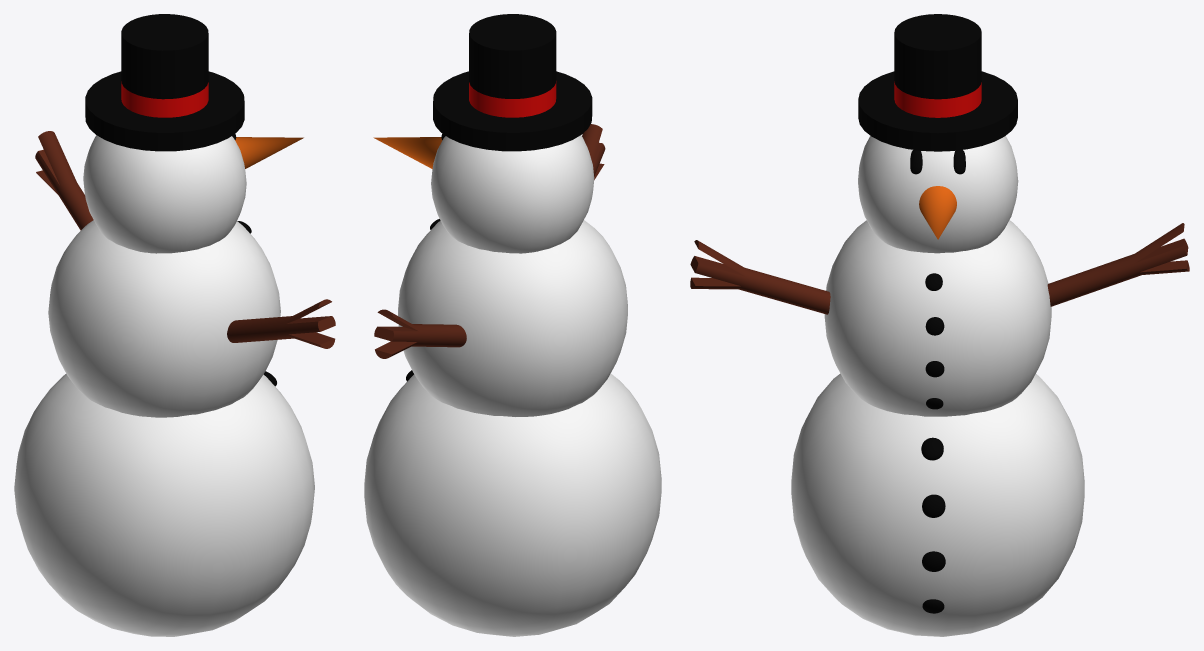
Rendered from Snowman.fbx.
The picture shows the model from 3 angles, left to right: view 1: azimuth 30°, elevation 25°; view 2: azimuth 150°, elevation 25°; view 3: azimuth 270°, elevation 25°; orthographic projection.
Parts seen in each view (by area): view 1: Cube, Cube.001, Cylinder, Cube.002, Cylinder.001, Cone; view 2: Cube, Cube.001, Cylinder, Cube.002, Cylinder.001, Cone; view 3: Cube, Cube.001, Cylinder, Cube.002, Cylinder.001, Cube.005, Cone, Cube.004.
Part boxes in pixels (<box>): Cube: <box>14,374,314,636</box>; Cube.001: <box>48,220,280,417</box>; Cylinder: <box>85,14,244,151</box>; Cube.002: <box>83,135,246,253</box>; Cylinder.001: <box>35,131,335,348</box>; Cone: <box>235,137,303,168</box>; Cube: <box>364,373,661,636</box>; Cube.001: <box>398,220,627,416</box>; Cylinder: <box>433,14,592,151</box>; Cube.002: <box>431,135,594,253</box>; Cylinder.001: <box>374,124,605,358</box>; Cone: <box>373,137,442,168</box>; Cube: <box>791,373,1084,636</box>; Cube.001: <box>824,220,1051,416</box>; Cylinder: <box>858,14,1017,151</box>; Cube.002: <box>858,136,1018,253</box>; Cylinder.001: <box>690,223,1189,314</box>; Cube.005: <box>921,437,945,613</box>; Cone: <box>919,186,956,239</box>; Cube.004: <box>925,273,944,409</box>.
Size of the model in its own units: 176 by 371 by 285.
